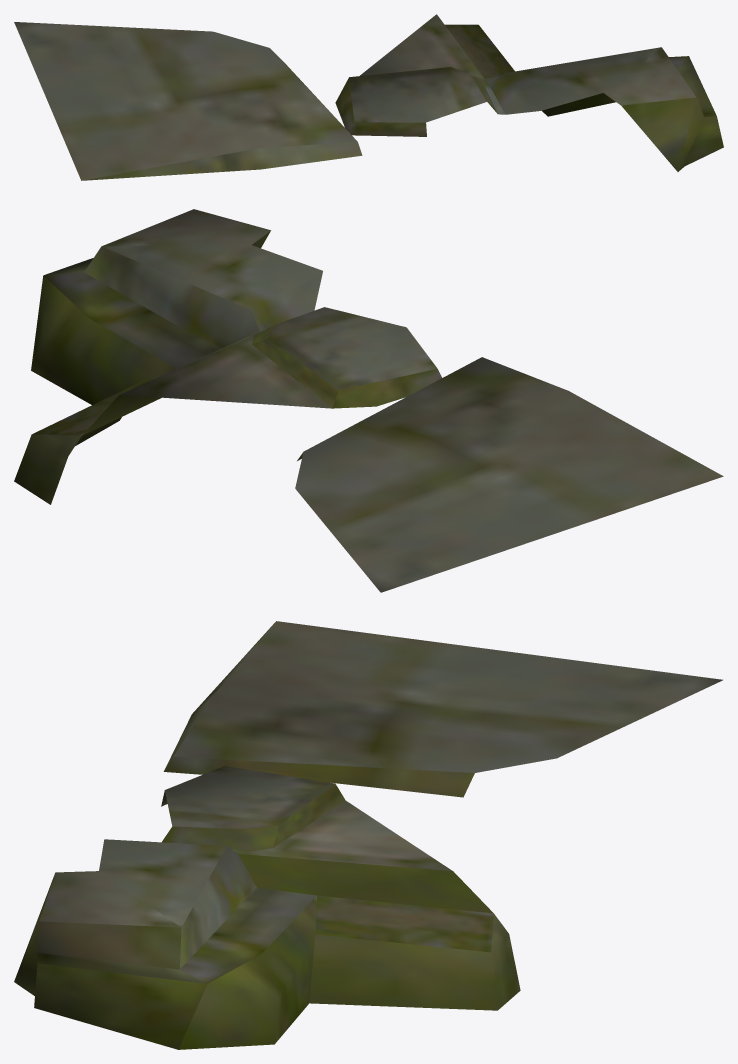
File: S2_Build_XSC063_H18.FBX
3 views of the same model, one above another, from view 1: azimuth 30°, elevation 25°; view 2: azimuth 150°, elevation 25°; view 3: azimuth 270°, elevation 25° (orthographic). The views are drawn at different scales.
Visible parts, largest first — view 1: S2_Build_XSC063_H18; view 2: S2_Build_XSC063_H18; view 3: S2_Build_XSC063_H18.
Boxes of the visible parts, x1=… form: S2_Build_XSC063_H18: x1=14, y1=14, x2=723, y2=180; S2_Build_XSC063_H18: x1=14, y1=209, x2=723, y2=592; S2_Build_XSC063_H18: x1=14, y1=621, x2=722, y2=1049.
Size of the model in its own units: 920 by 140 by 754.
